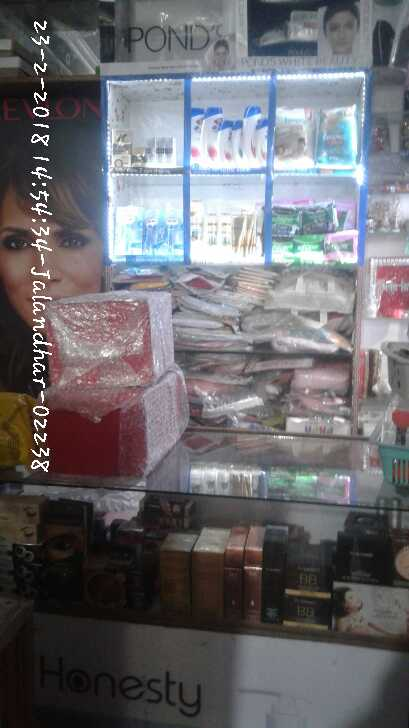venus: (115, 207, 141, 252), (143, 207, 164, 253), (164, 210, 183, 254)
